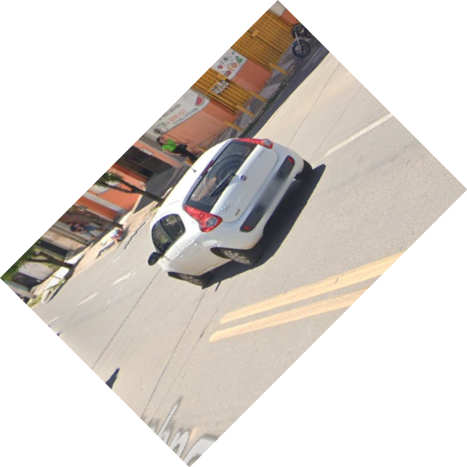car: (144, 135, 321, 289)
